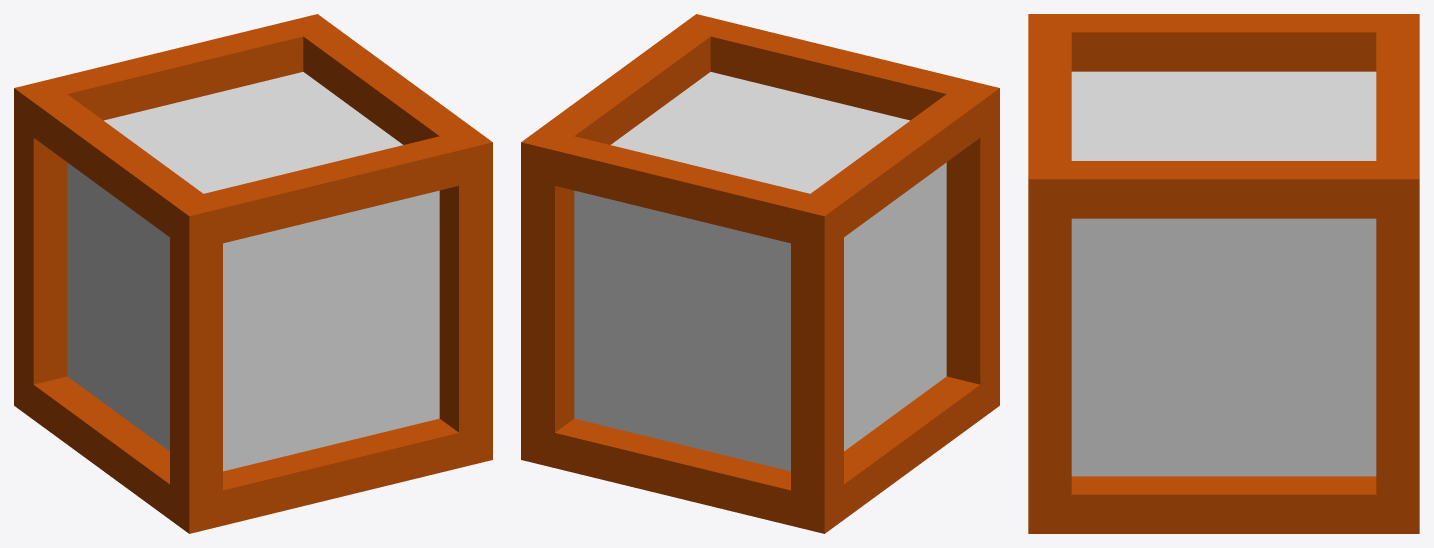
Rendered from classroom_blockRED_v2.fbx.
The picture shows the model from 3 angles, left to right: view 1: azimuth 30°, elevation 25°; view 2: azimuth 150°, elevation 25°; view 3: azimuth 270°, elevation 25°; orthographic projection. The views are drawn at different scales.
Visible parts, largest first — view 1: pCube16; view 2: pCube16; view 3: pCube16.
Boxes of the visible parts, box(x1,y1,x2,y2) form: pCube16: box(14, 14, 492, 533); pCube16: box(521, 14, 999, 533); pCube16: box(1028, 14, 1419, 533).
Bounding box in the file's own units: 1 × 1 × 1.
